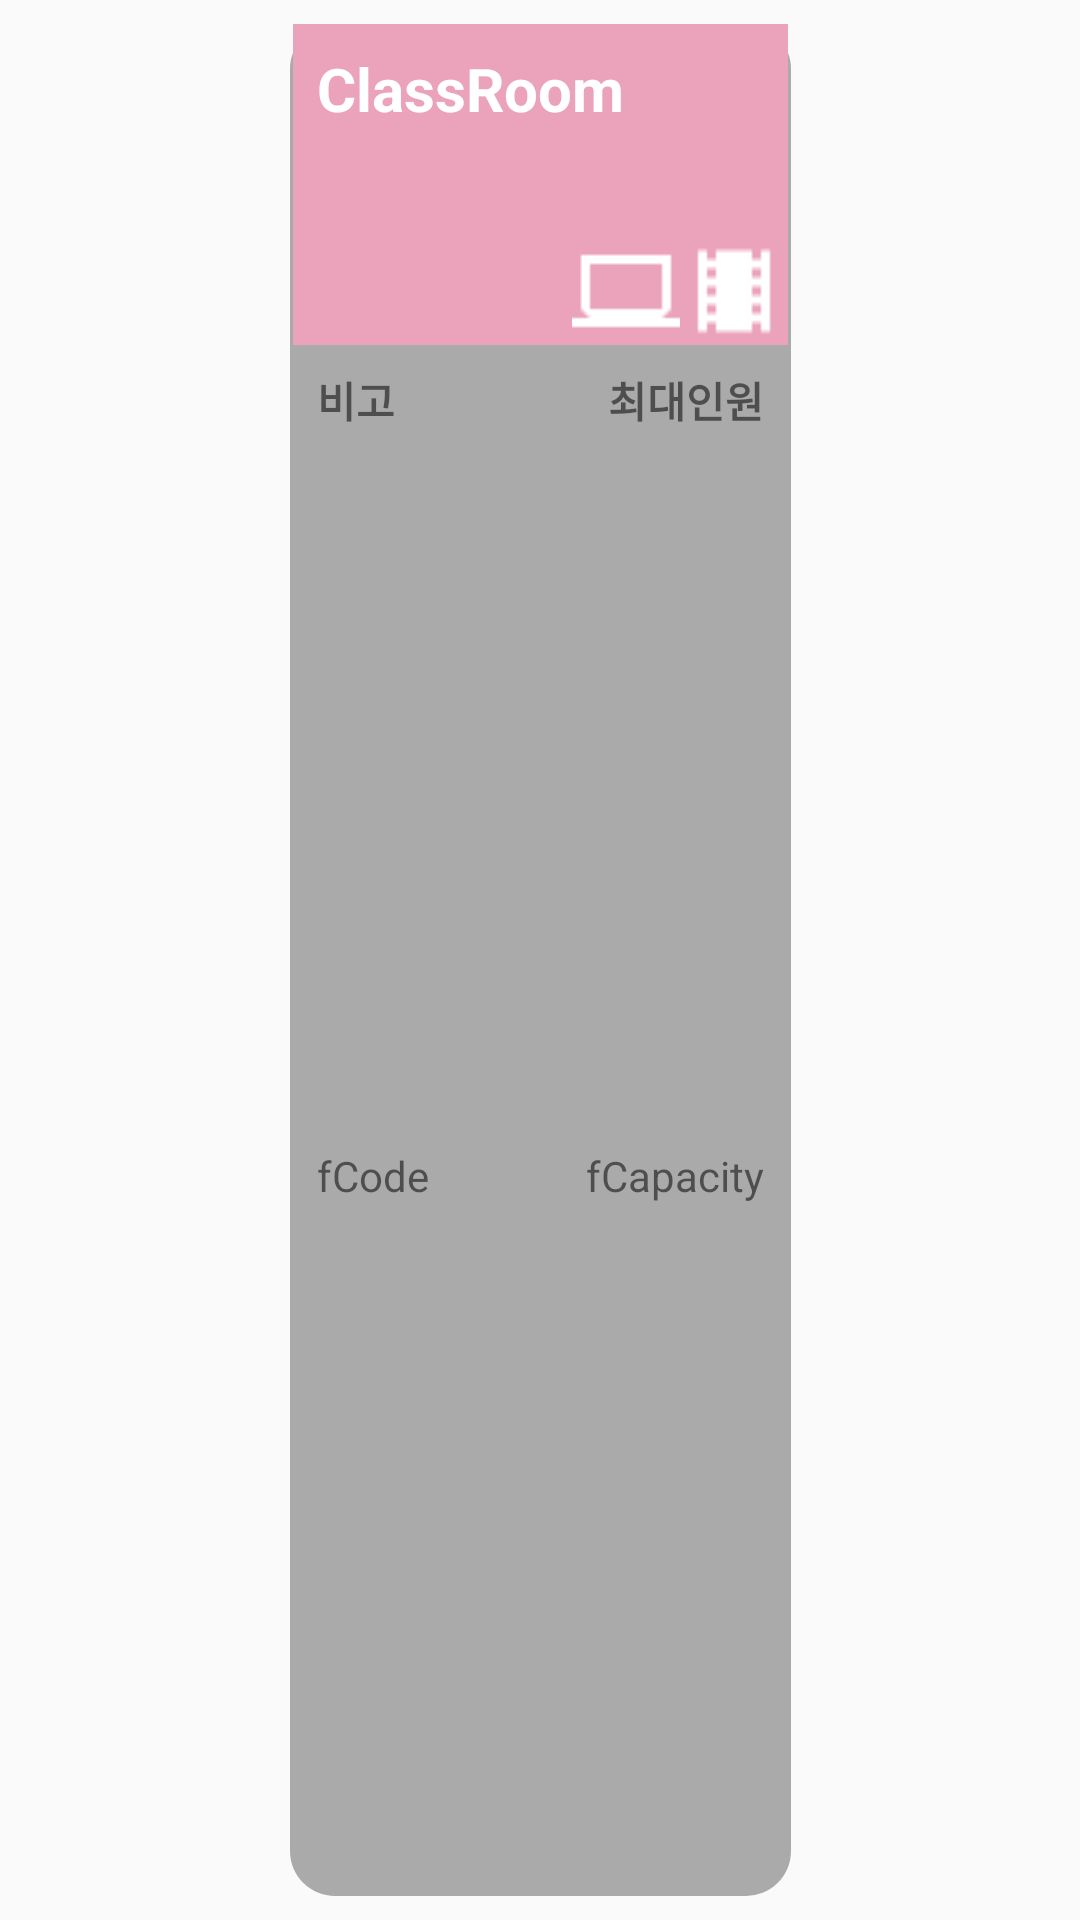

Icon click points for this 1080 x 1920 phone screenshot, format (x=x, y=y):
computer: (x=626, y=291)
local movies: (x=734, y=291)
